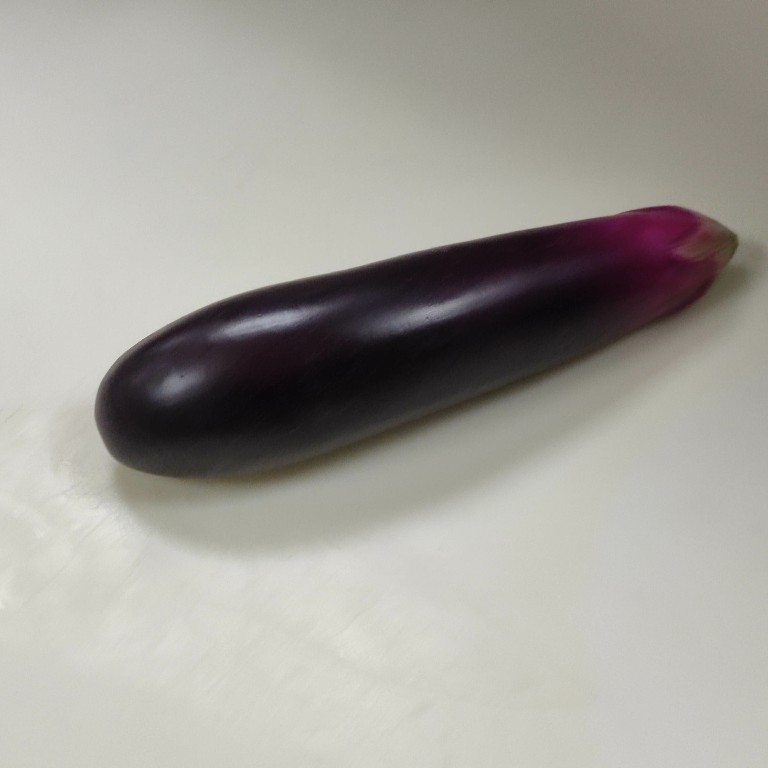fruit_eggplant: (88, 200, 746, 482)
